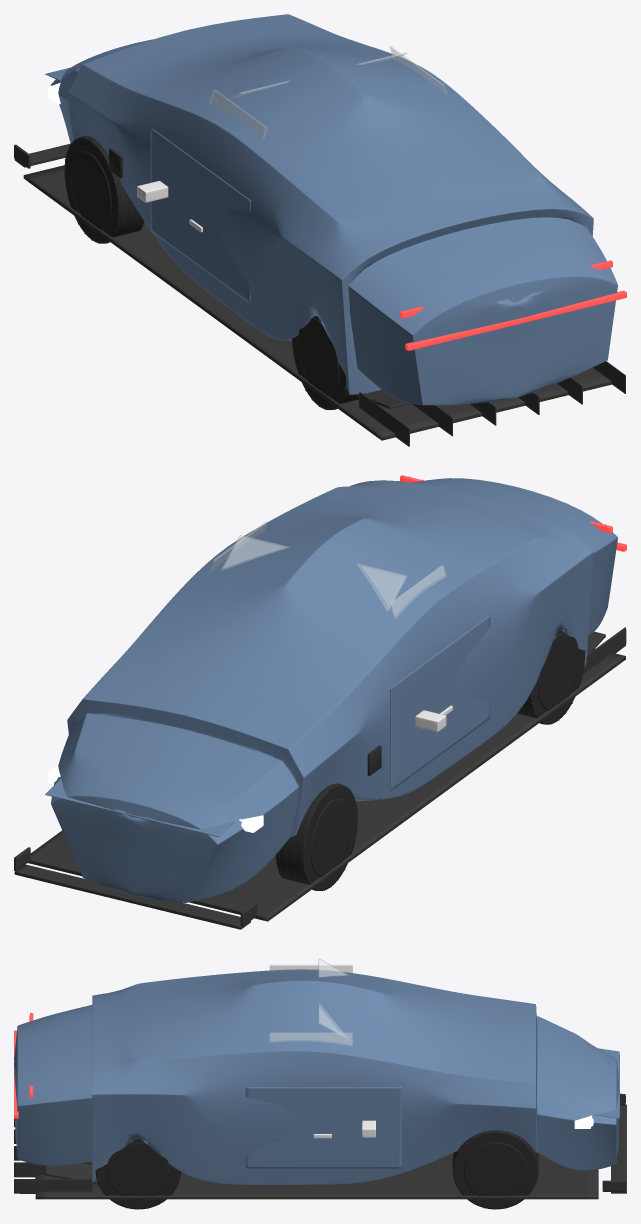
File: vehicle.opt.glb
The picture shows the model from 3 angles, top to bottom: view 1: azimuth 30°, elevation 25°; view 2: azimuth 150°, elevation 25°; view 3: azimuth 270°, elevation 25°; orthographic projection. The views are drawn at different scales.
Parts seen in each view (by area): view 1: BODY_MainShell, UNDERBODY_FlatFloor, BODY_Door_FL, WHEEL_FL_Tire, WHEEL_RL_Tire, GLASS_Greenhouse, LIGHTING_Pacifica_Lightbar, AERO_FrontSplitter, JEWELRY_Hardware; view 2: BODY_MainShell, UNDERBODY_FlatFloor, BODY_Door_FL, WHEEL_FL_Tire, GLASS_Greenhouse, WHEEL_RL_Tire, AERO_FrontSplitter, BODY_Hood; view 3: BODY_MainShell, UNDERBODY_FlatFloor, BODY_Door_FR, WHEEL_FR_Tire, WHEEL_RR_Tire, GLASS_Greenhouse, AERO_FrontSplitter, BODY_Hood.
Part boxes in pixels (<box>): BODY_MainShell: <box>51,14,617,405</box>; UNDERBODY_FlatFloor: <box>23,165,625,446</box>; BODY_Door_FL: <box>150,127,250,303</box>; WHEEL_FL_Tire: <box>64,136,144,243</box>; WHEEL_RL_Tire: <box>291,316,358,410</box>; GLASS_Greenhouse: <box>209,46,446,139</box>; LIGHTING_Pacifica_Lightbar: <box>405,290,626,350</box>; AERO_FrontSplitter: <box>14,143,70,168</box>; JEWELRY_Hardware: <box>137,181,202,232</box>; BODY_MainShell: <box>51,478,617,902</box>; UNDERBODY_FlatFloor: <box>28,627,626,921</box>; BODY_Door_FL: <box>390,615,490,790</box>; WHEEL_FL_Tire: <box>276,783,358,890</box>; GLASS_Greenhouse: <box>209,521,446,618</box>; WHEEL_RL_Tire: <box>517,630,585,724</box>; AERO_FrontSplitter: <box>14,847,257,929</box>; BODY_Hood: <box>45,778,235,837</box>; BODY_MainShell: <box>14,969,618,1185</box>; UNDERBODY_FlatFloor: <box>14,1118,598,1199</box>; BODY_Door_FR: <box>245,1087,402,1168</box>; WHEEL_FR_Tire: <box>452,1130,538,1209</box>; WHEEL_RR_Tire: <box>95,1139,181,1209</box>; GLASS_Greenhouse: <box>269,958,352,1046</box>; AERO_FrontSplitter: <box>602,1093,626,1193</box>; BODY_Hood: <box>594,1048,619,1118</box>.
Size of what is drawn, in the model's own units: 2.36 by 1.75 by 5.3.
